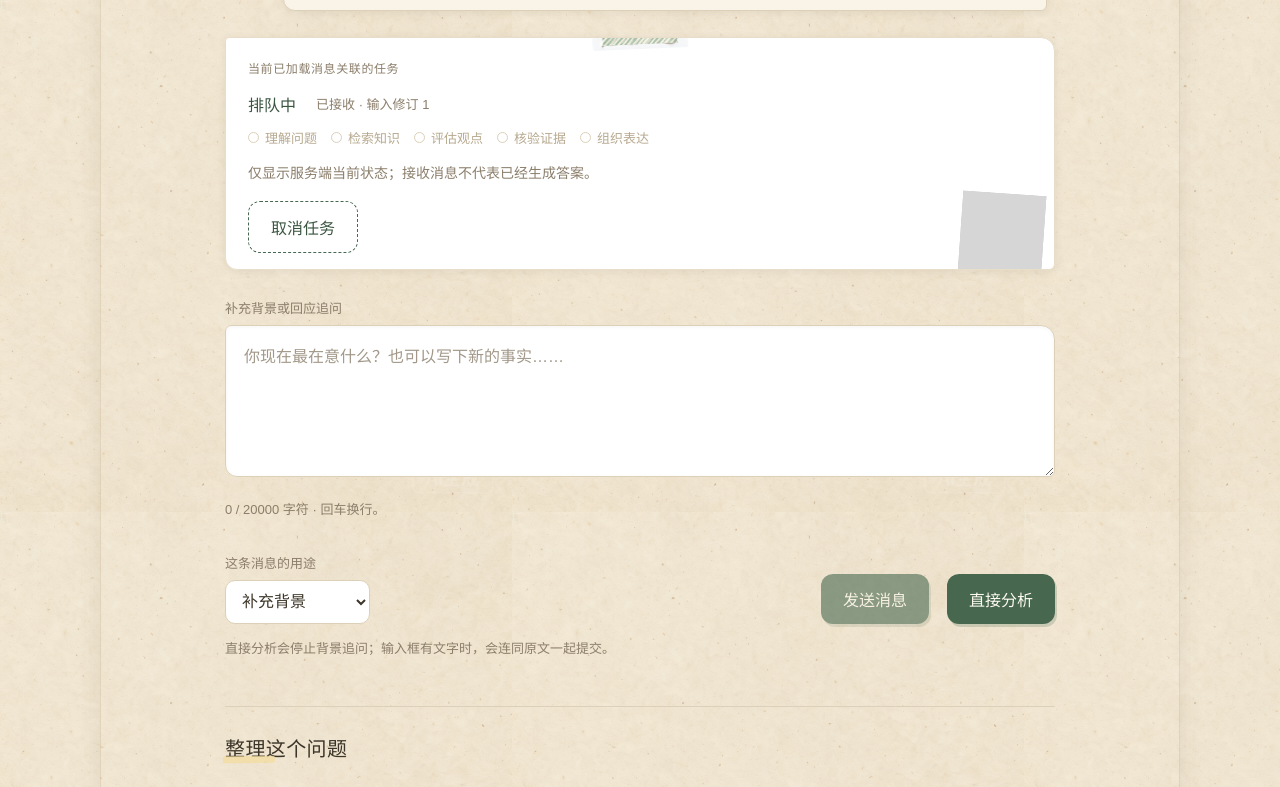
Test case: 服务器已保存但响应丢失，后台读取新修订仍复用原提交，202重放只显示一条消息
The image size is (1280, 787).
(page scrolled)
Check: the text "排队中" is shown, box x1=248 y1=92 x2=296 y2=116
Type "响应丢失的新事实" into the text box labelled "补充背景或回应追问" at (640, 401), box x1=225 y1=325 x2=1055 y2=477
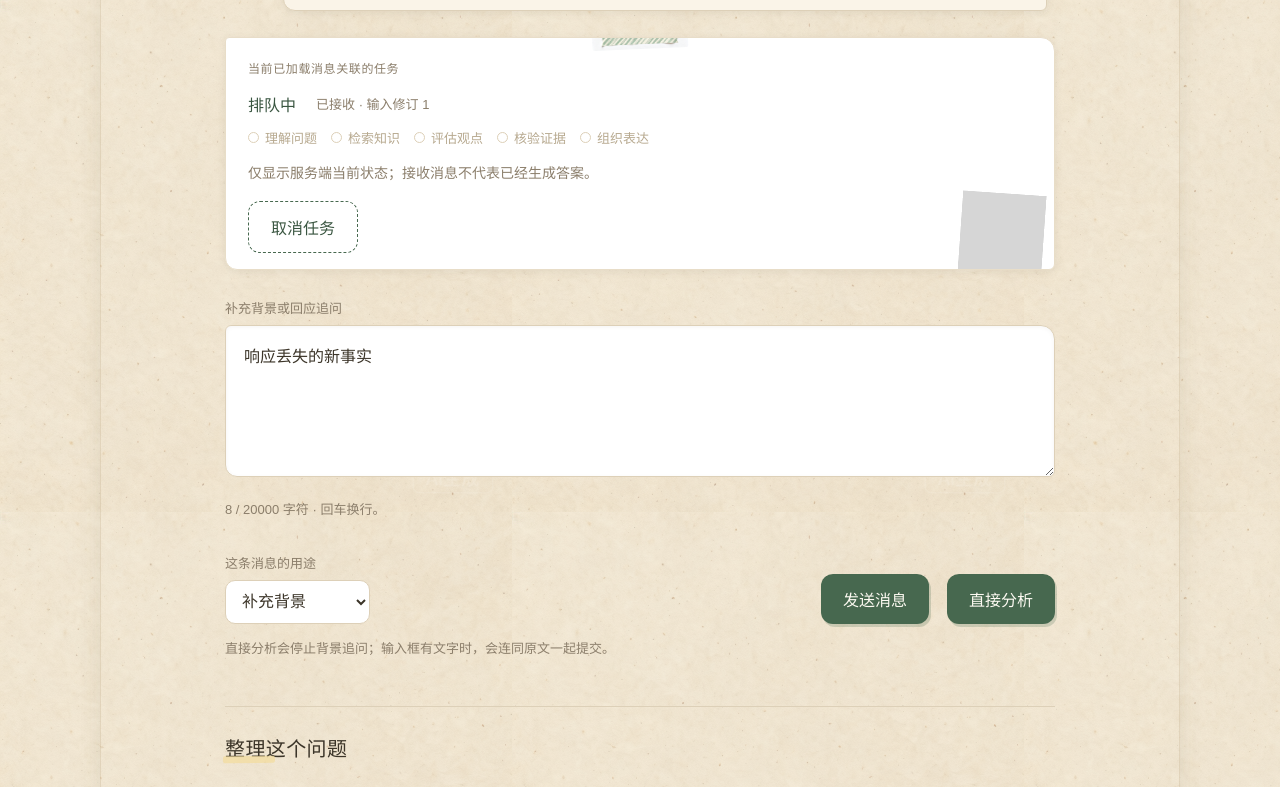
Click the button "发送消息" at (875, 598), box x1=821 y1=574 x2=929 y2=624
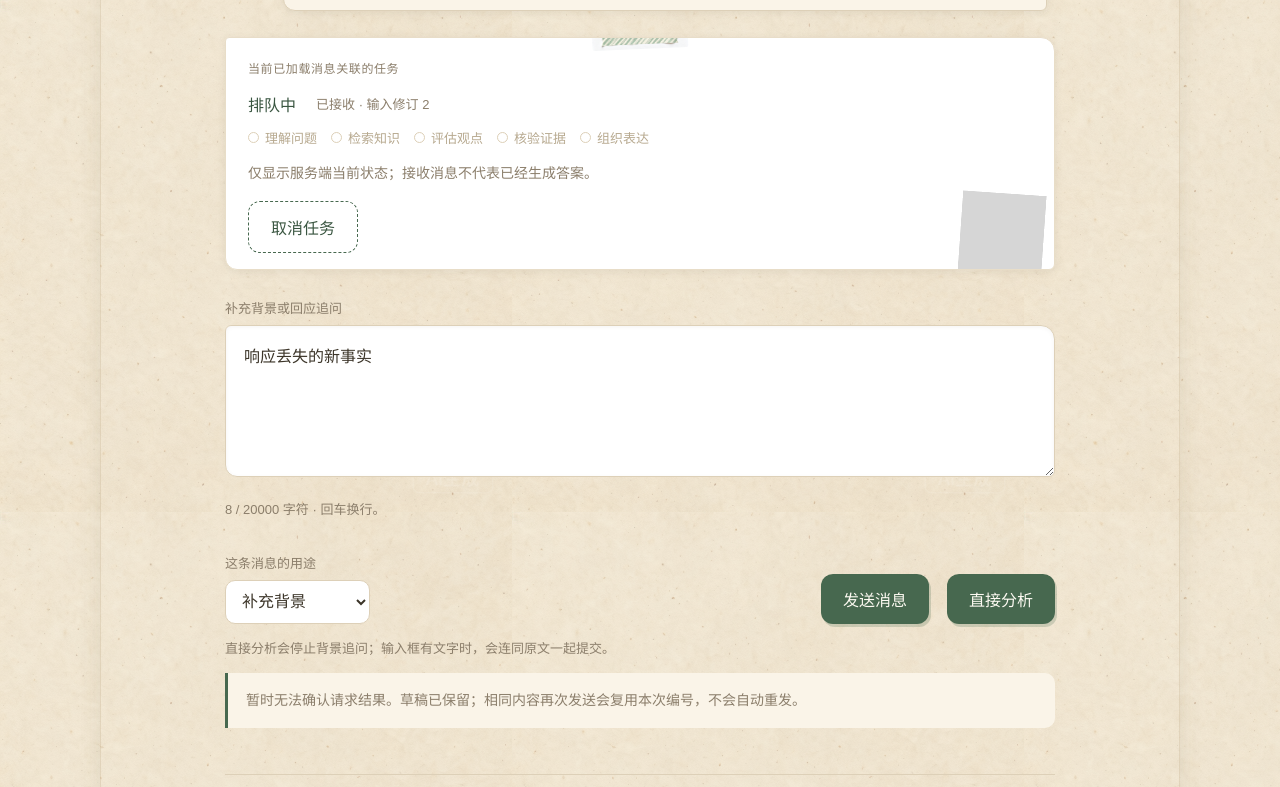
Check: the message "暂时无法确认请求结果。草稿已保留；相同内容再次发送会复用本次编号，不会自动重发。" is shown, box x1=225 y1=673 x2=1055 y2=728
Click the button "发送消息" at (875, 598), box x1=821 y1=574 x2=929 y2=624
(page scrolled)
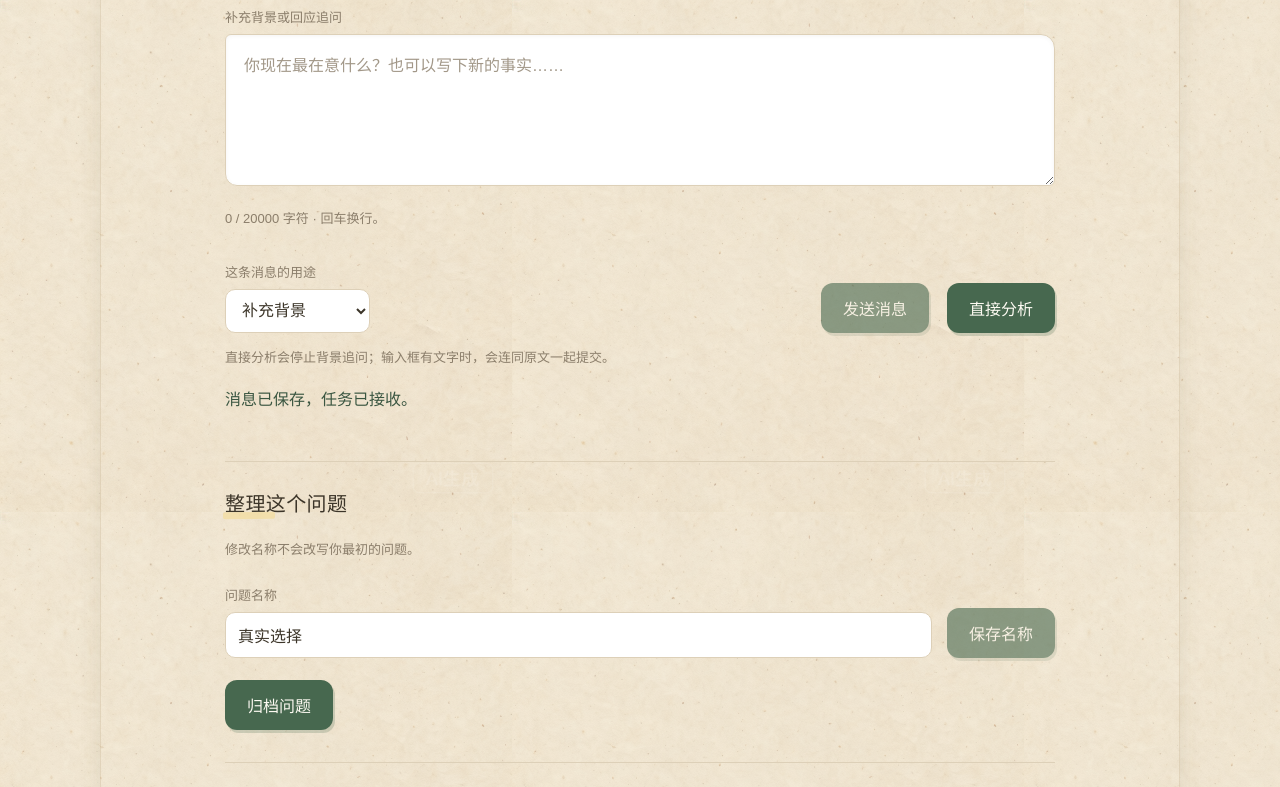
Check: the text "消息已保存，任务已接收。" is shown, box x1=225 y1=390 x2=417 y2=409
